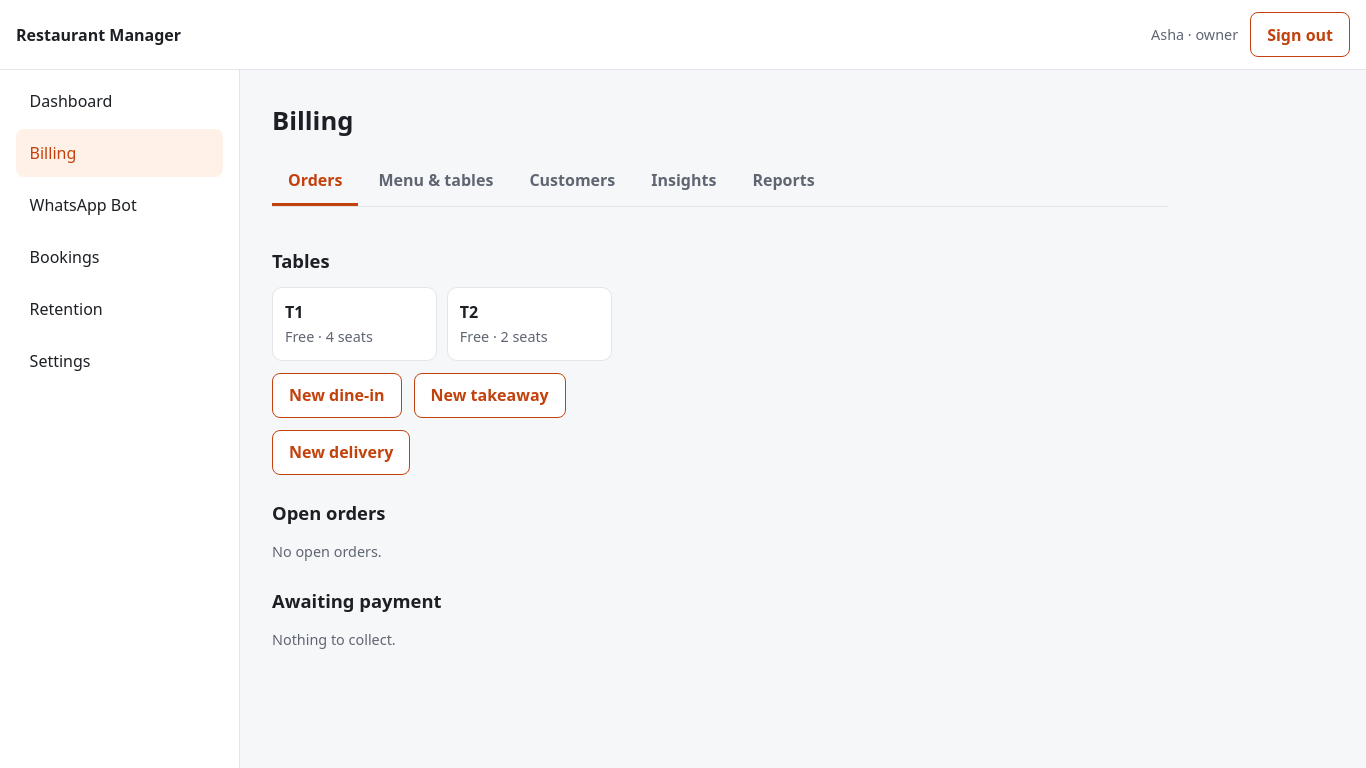
Customer on an order › recognises a returning guest while the number is typed and fills the name
Click the button "New delivery" at (341, 452), box [272, 430, 410, 475]
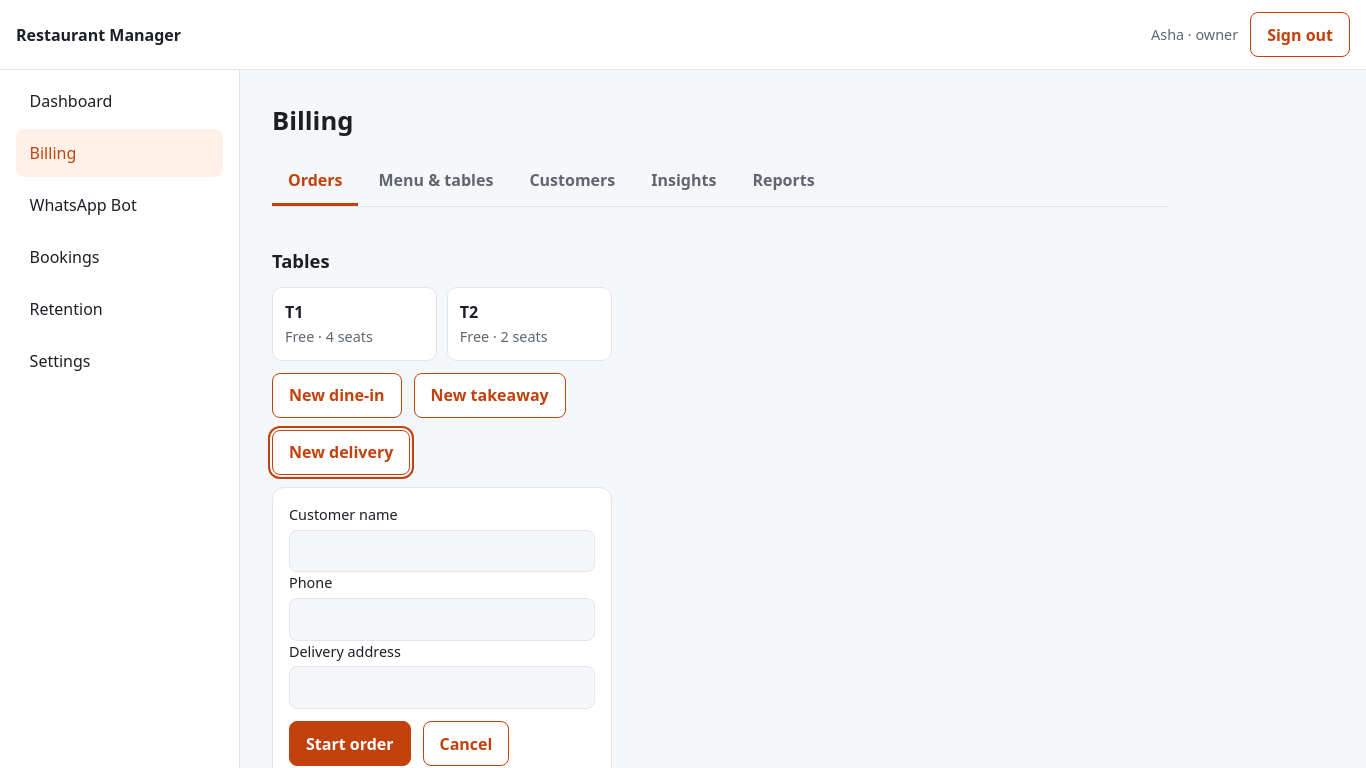
Type "12 Lodhi Road" into the field labelled "Delivery address" at (442, 688), box [289, 666, 595, 709]
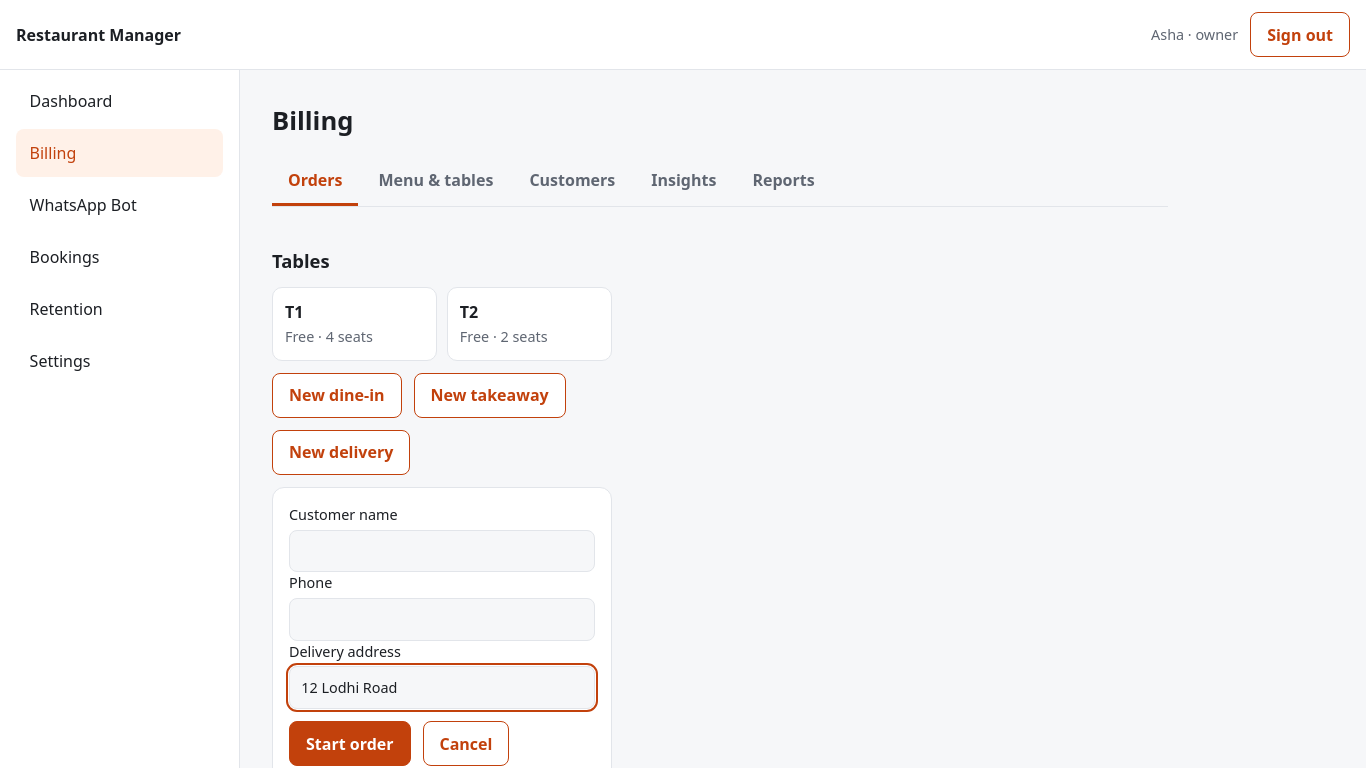
Click the button "Start order" at (350, 744), box [289, 721, 410, 766]
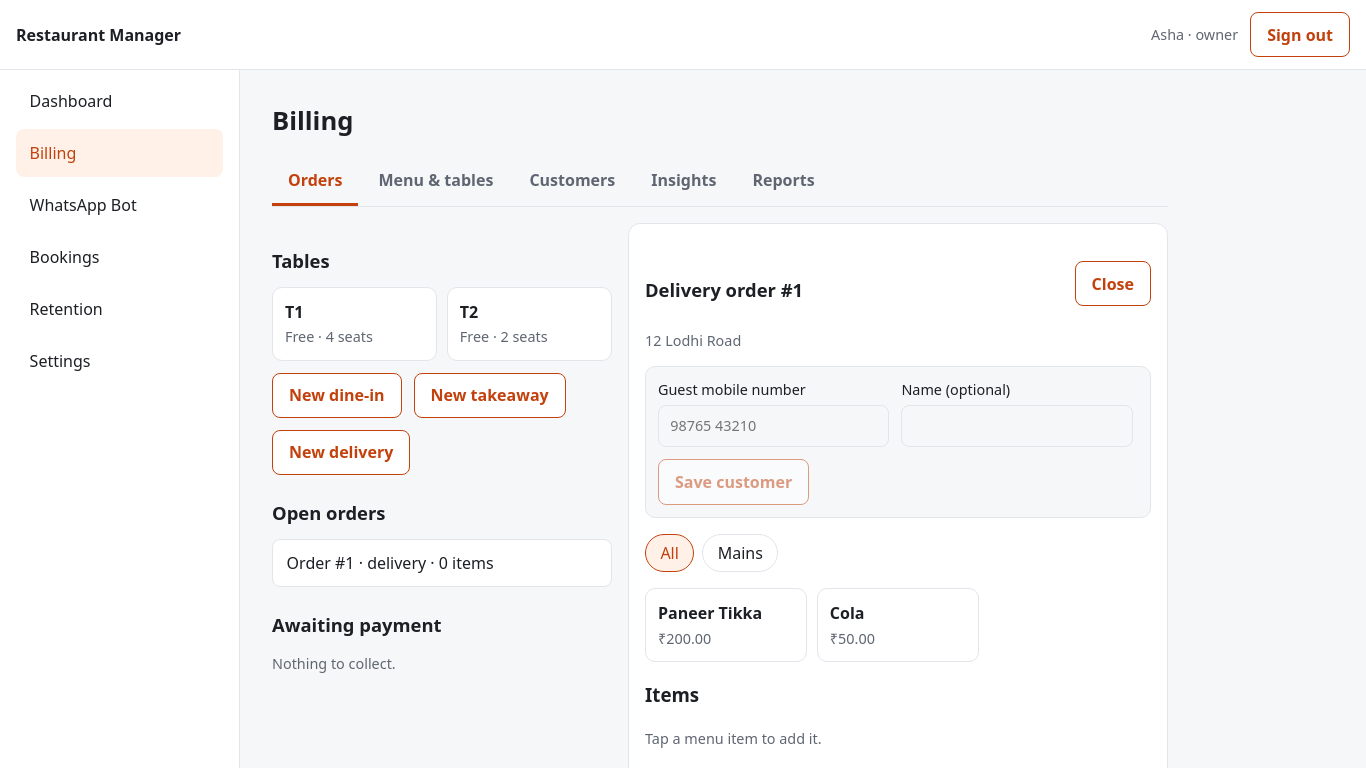
Expected: the heading "Delivery order #1" is shown, [645, 276, 803, 304]
Type "98100 00001" into the field labelled "Guest mobile number" at (774, 426), box [658, 405, 889, 447]
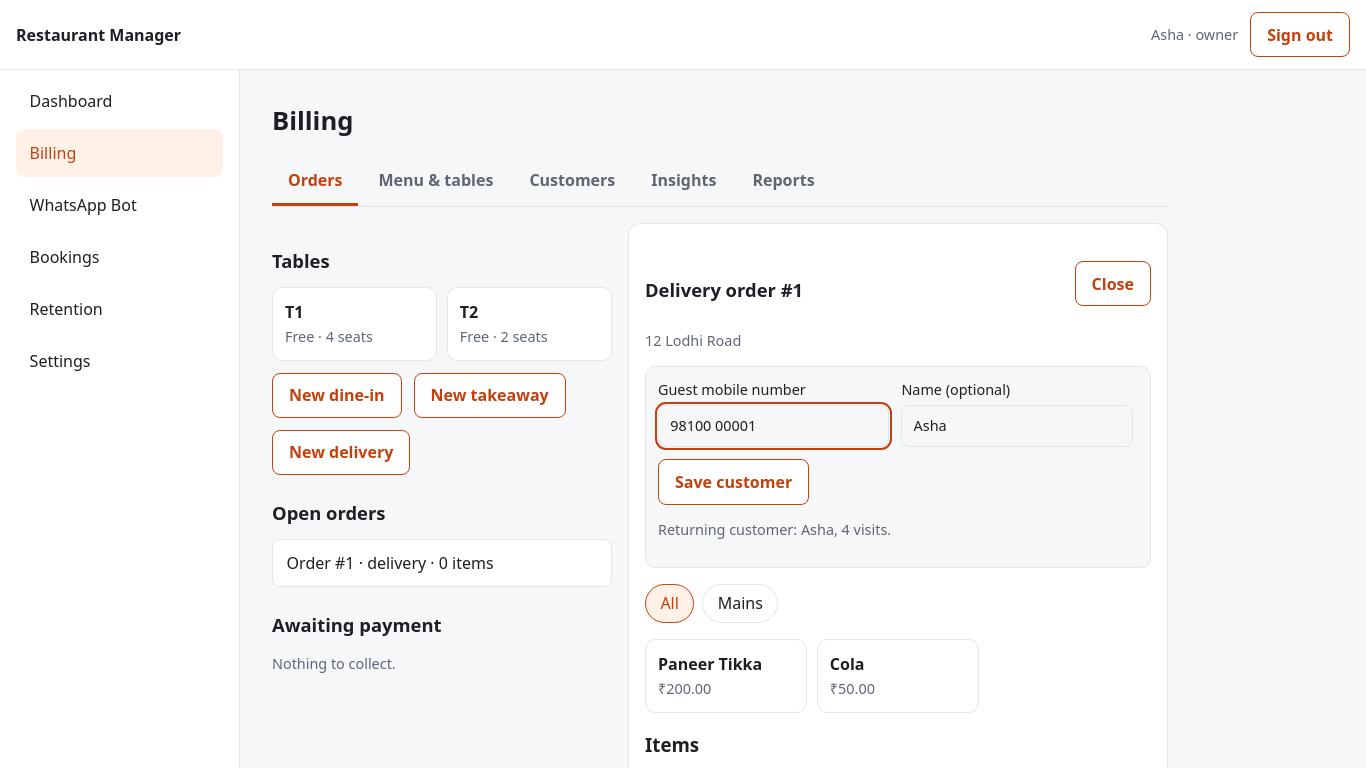
Expected: the message shows "Returning customer: Asha, 4 visits", [658, 520, 891, 539]
Expected: the field labelled "Name (optional)" holds "Asha", [901, 405, 1133, 447]
